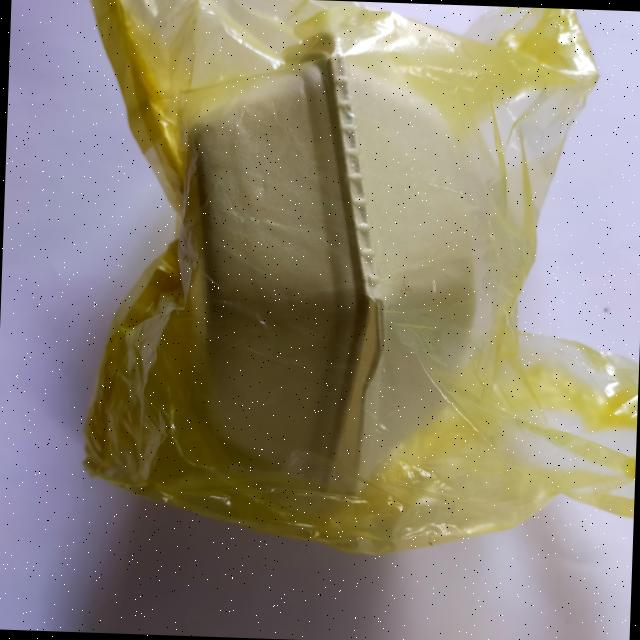styrofoam: (66, 0, 640, 565)
